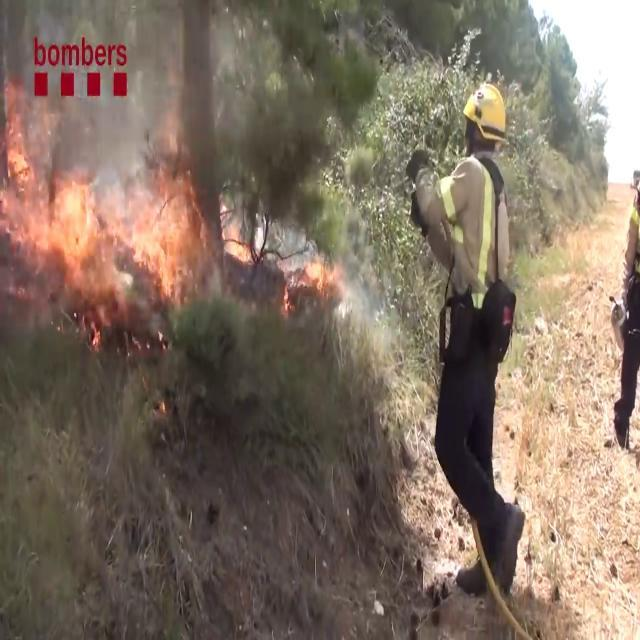Fire: (5, 168, 206, 296), (300, 246, 332, 296)
